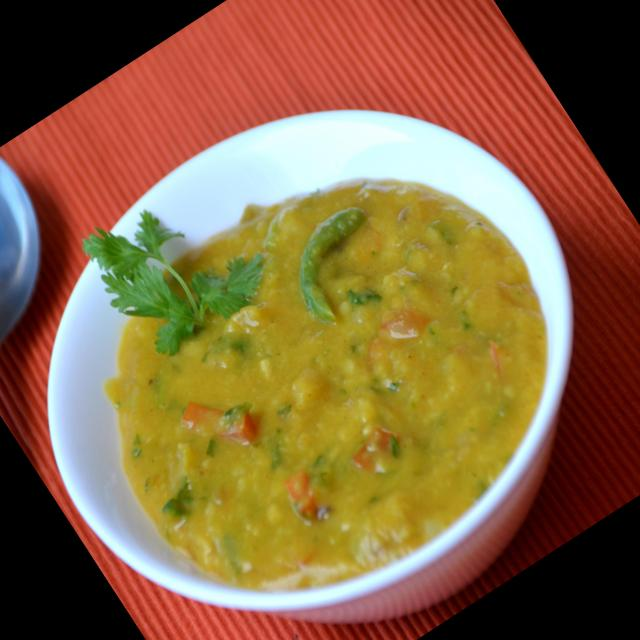dal: (40, 99, 621, 640)
